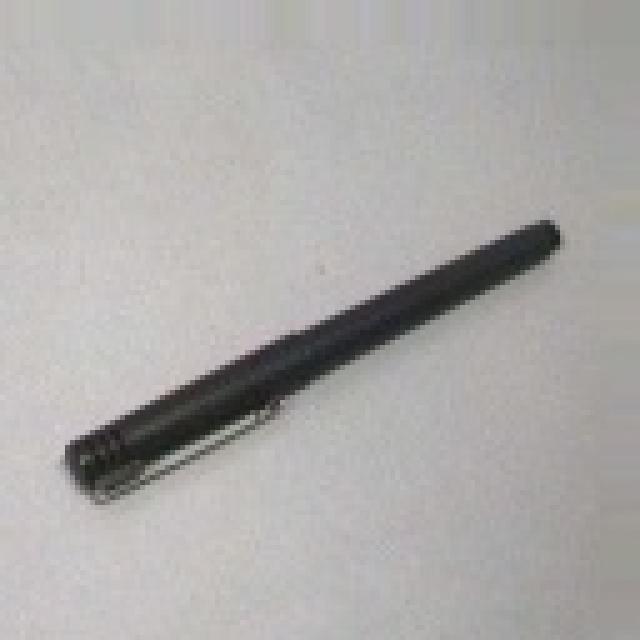pen: (59, 220, 573, 508)
